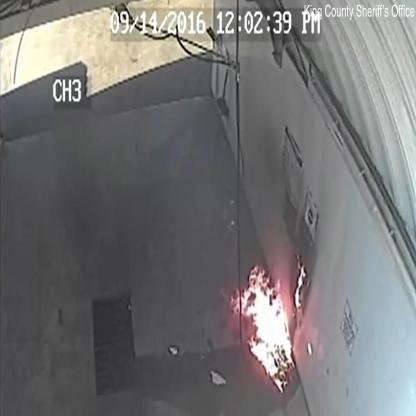fire: (232, 265, 294, 394), (295, 253, 306, 309)
